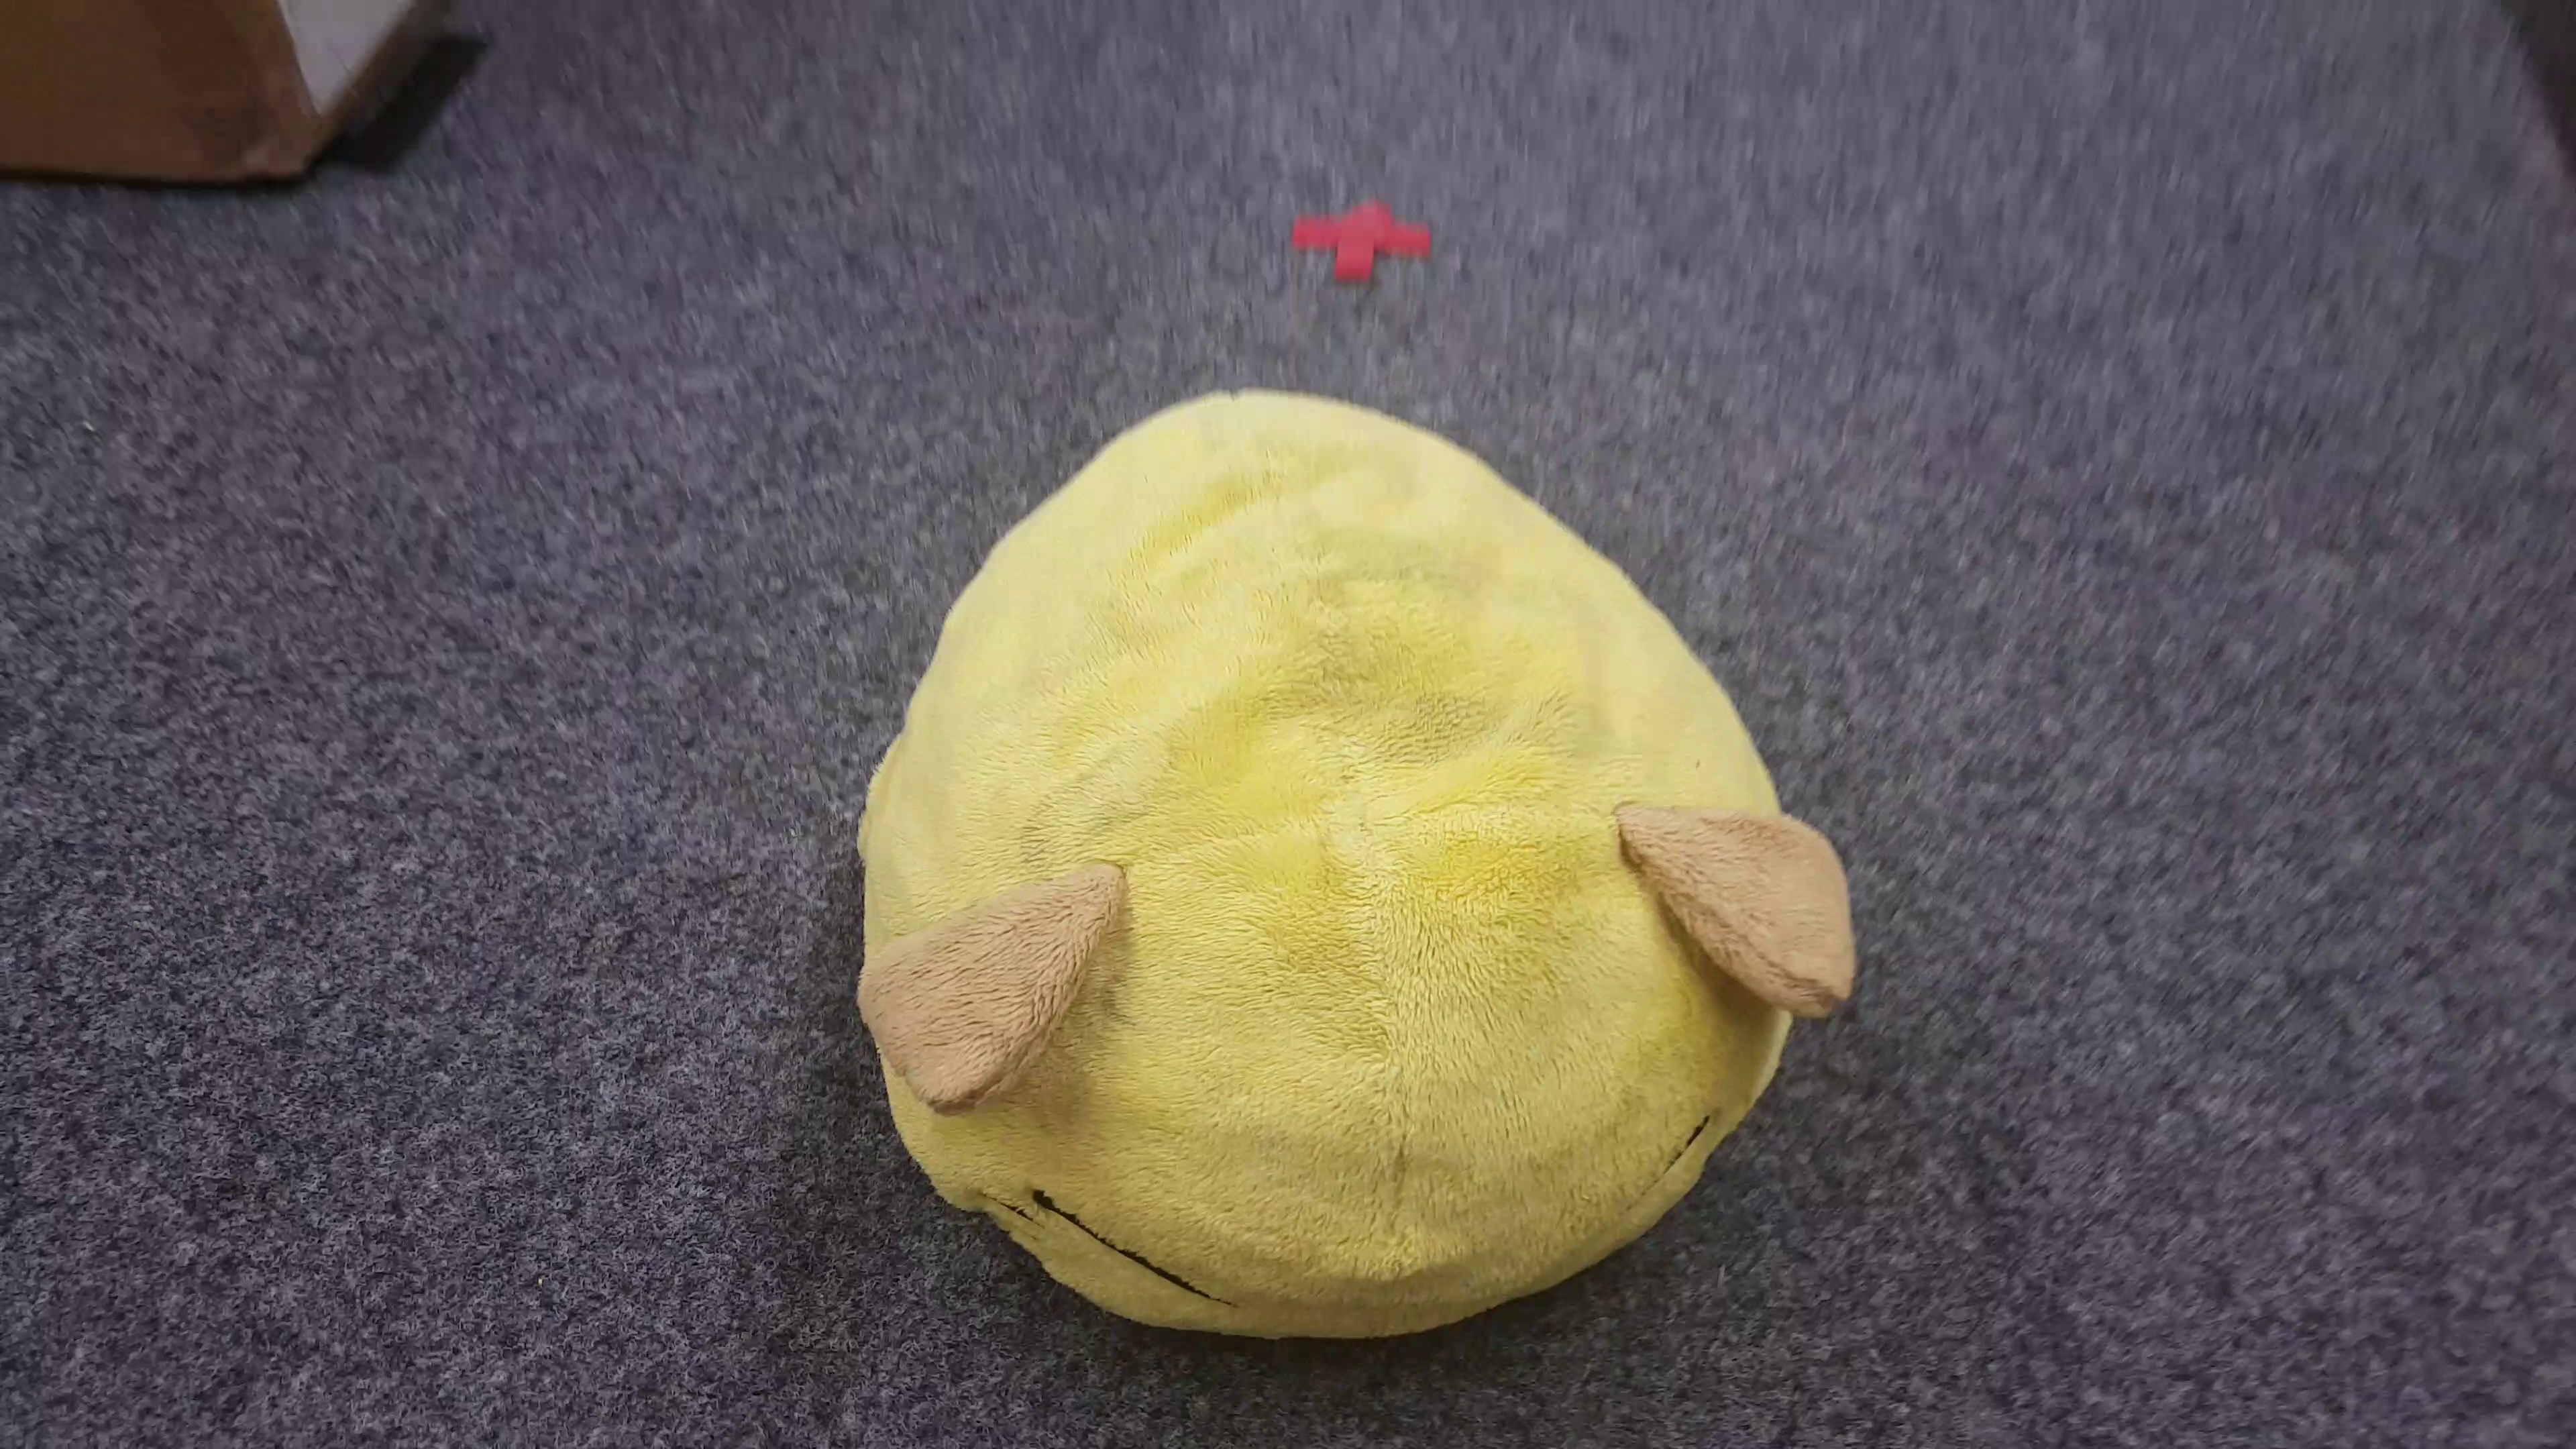grasp: (855, 380, 1852, 1334)
